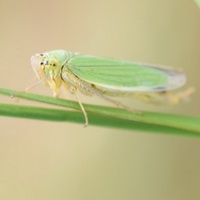insect: (17, 50, 199, 131)
